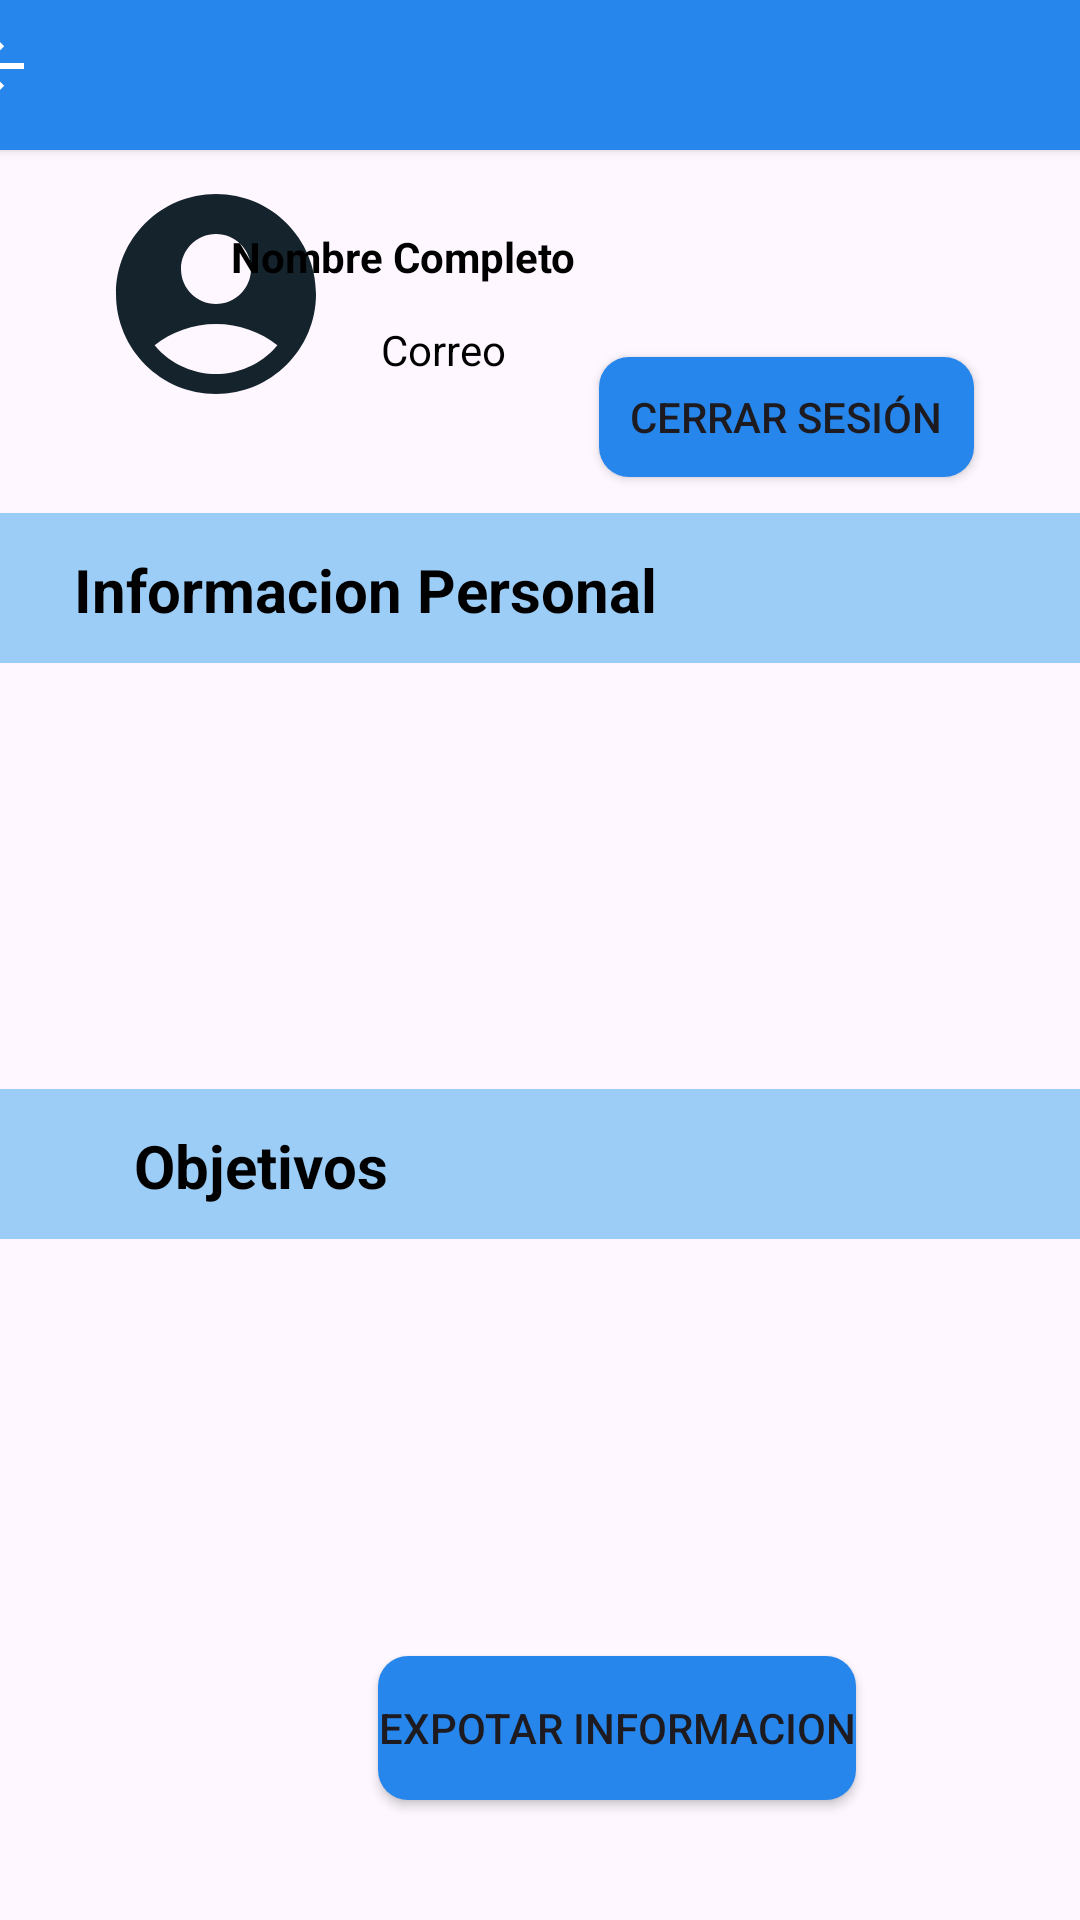

Icon bounding boxes for this 1080px×1920px phone screenshot, format (x1, y1, x2, y2):
account circle: (116, 194, 319, 394)
